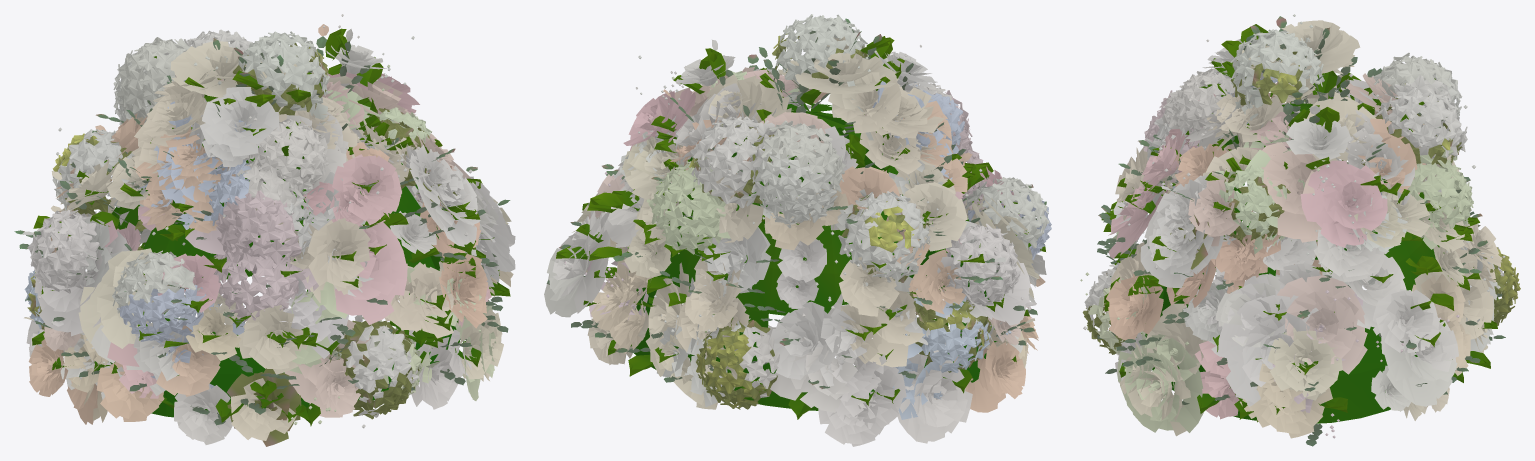
File: vr27n_D_mound_c_bright_v2.glb
The picture shows the model from 3 angles, left to right: view 1: azimuth 30°, elevation 25°; view 2: azimuth 150°, elevation 25°; view 3: azimuth 270°, elevation 25°; orthographic projection. The views are drawn at different scales.
Parts seen in each view (by area): view 1: petals; view 2: petals; view 3: petals.
Part boxes in pixels (<box>): petals: <box>14,14,515,446</box>; petals: <box>544,14,1051,446</box>; petals: <box>1080,14,1520,446</box>.
Bounding box in the file's own units: 0.0154 × 0.0105 × 0.0125.
